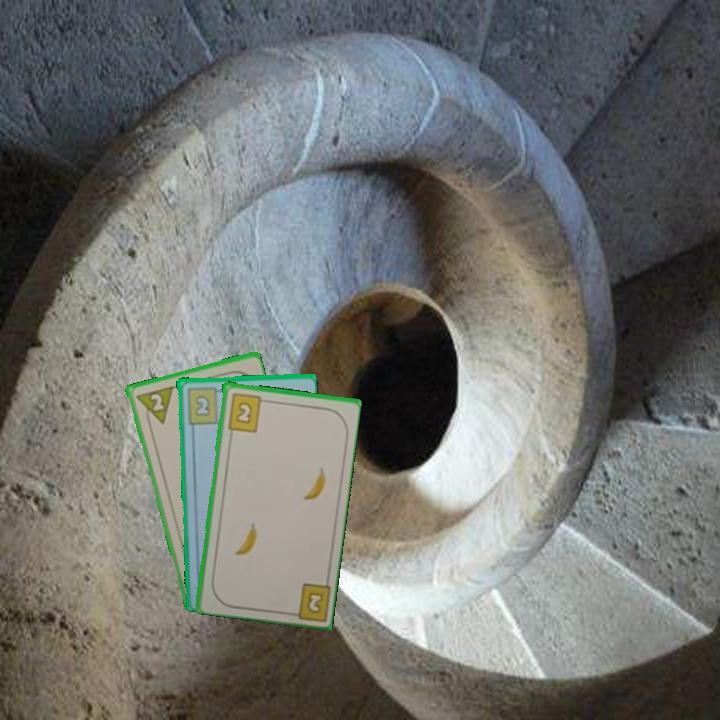2b: (283, 579, 332, 622), (224, 389, 270, 434), (184, 383, 226, 426)
2p: (132, 382, 175, 430)
